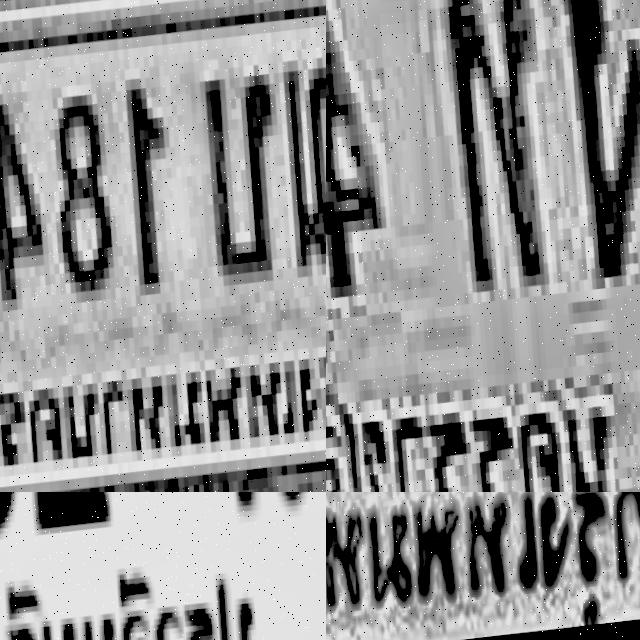license-plate: (0, 0, 326, 492), (326, 0, 640, 492), (0, 492, 326, 640), (326, 492, 640, 640)
